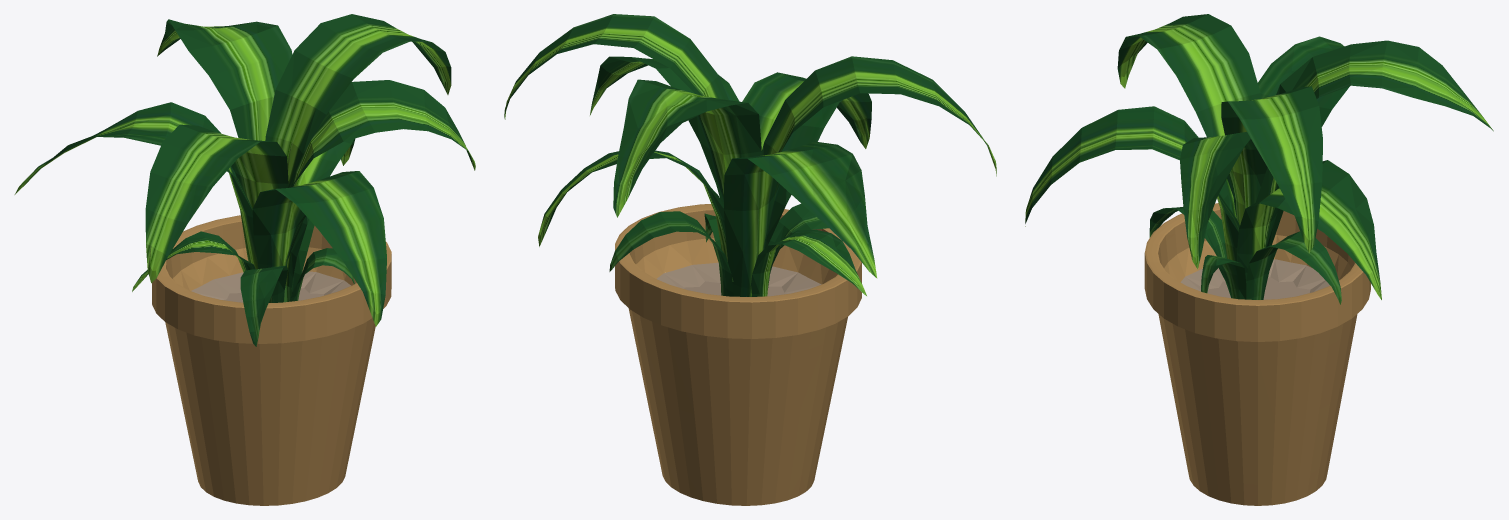
The model's file is sh-scopia-maceta.glb.
The picture shows the model from 3 angles, left to right: view 1: azimuth 30°, elevation 25°; view 2: azimuth 150°, elevation 25°; view 3: azimuth 270°, elevation 25°; orthographic projection. The views are drawn at different scales.
Parts seen in each view (by area): view 1: leaf.001_Plane, maceta_Cylinder_maceta, maceta_Cylinder_tierra_maceta; view 2: leaf.001_Plane, maceta_Cylinder_maceta, maceta_Cylinder_tierra_maceta; view 3: leaf.001_Plane, maceta_Cylinder_maceta, maceta_Cylinder_tierra_maceta.
Boxes of the visible parts, x1,y1,x2,y2 form: leaf.001_Plane: [14, 14, 475, 346]; maceta_Cylinder_maceta: [152, 215, 391, 505]; maceta_Cylinder_tierra_maceta: [191, 271, 350, 302]; leaf.001_Plane: [504, 14, 996, 296]; maceta_Cylinder_maceta: [615, 204, 861, 505]; maceta_Cylinder_tierra_maceta: [657, 262, 821, 296]; leaf.001_Plane: [1025, 14, 1493, 304]; maceta_Cylinder_maceta: [1144, 203, 1370, 505]; maceta_Cylinder_tierra_maceta: [1180, 259, 1329, 299].
Bounding box in the file's own units: 1 × 1 × 1.
3 materials, 1 textured.
